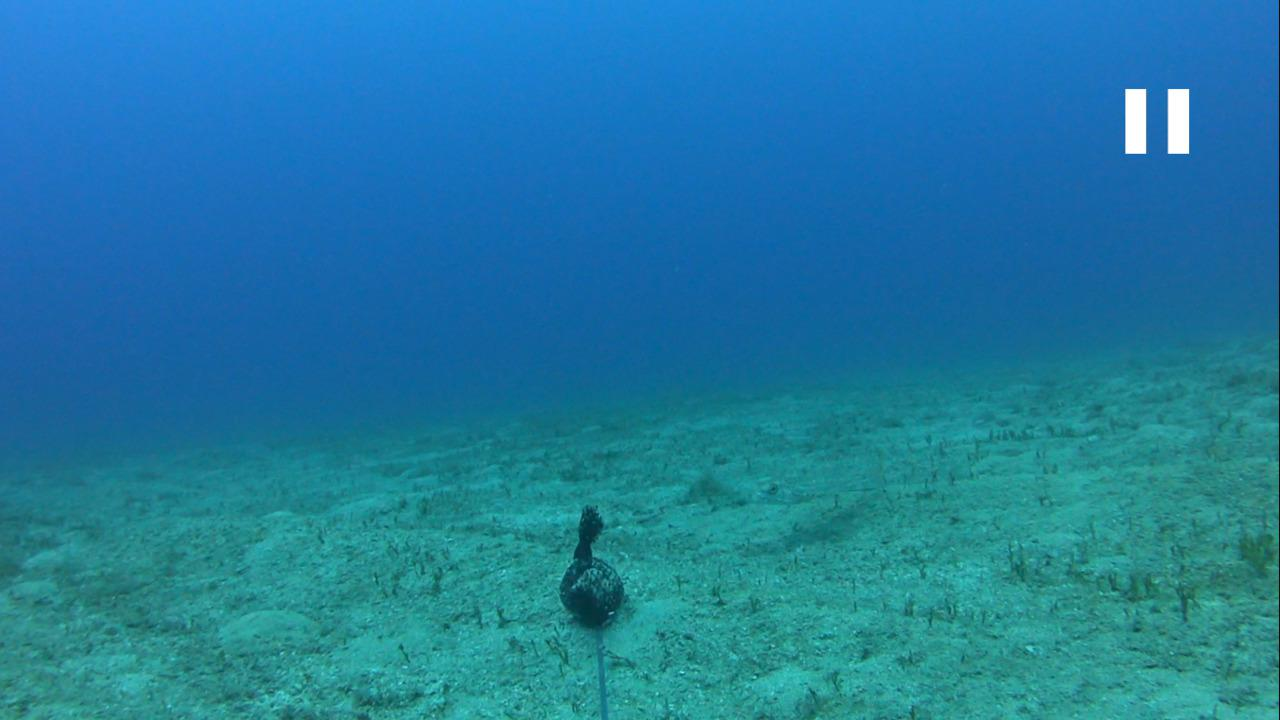dactylopterus: (752, 455, 909, 504)
